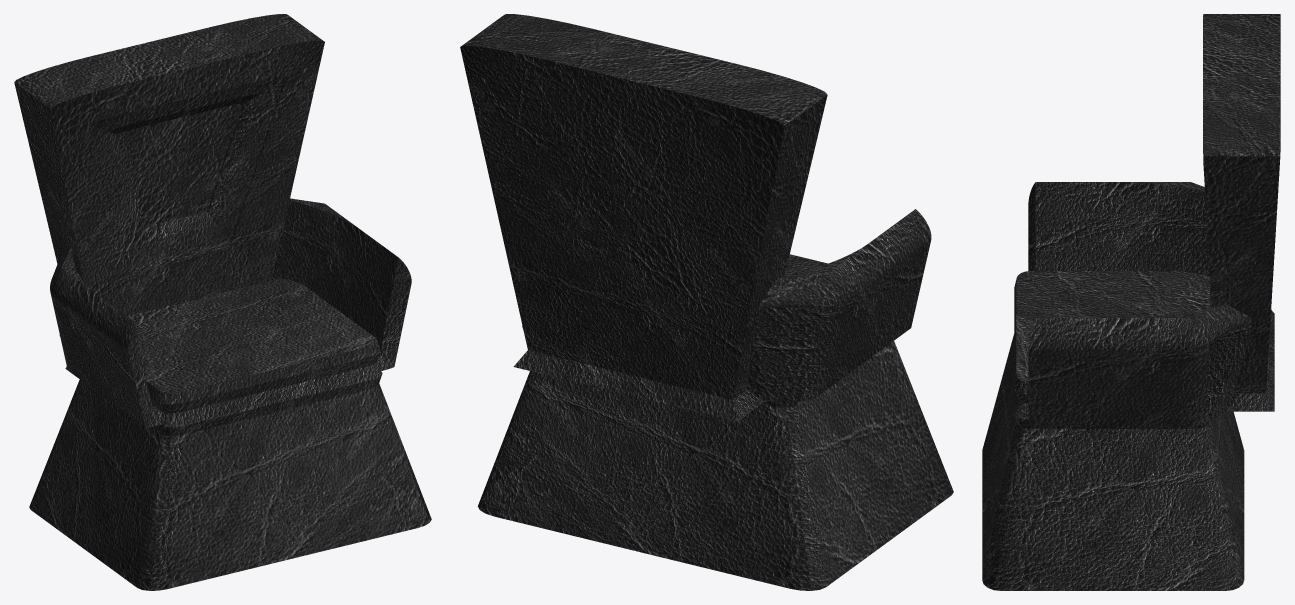
Rendered from silla jefe.fbx.
3 renders of one model, left to right at view 1: azimuth 30°, elevation 25°; view 2: azimuth 150°, elevation 25°; view 3: azimuth 270°, elevation 25°, orthographic. The views are drawn at different scales.
Visible parts, largest first — view 1: Cube.006; view 2: Cube.006; view 3: Cube.006.
Boxes of the visible parts, x1,y1,x2,y2 form: Cube.006: [14, 14, 431, 590]; Cube.006: [460, 14, 953, 590]; Cube.006: [982, 14, 1280, 590].
Size of the model in its own units: 191 by 258 by 160.
Materials: 1 (1 with a texture image).
